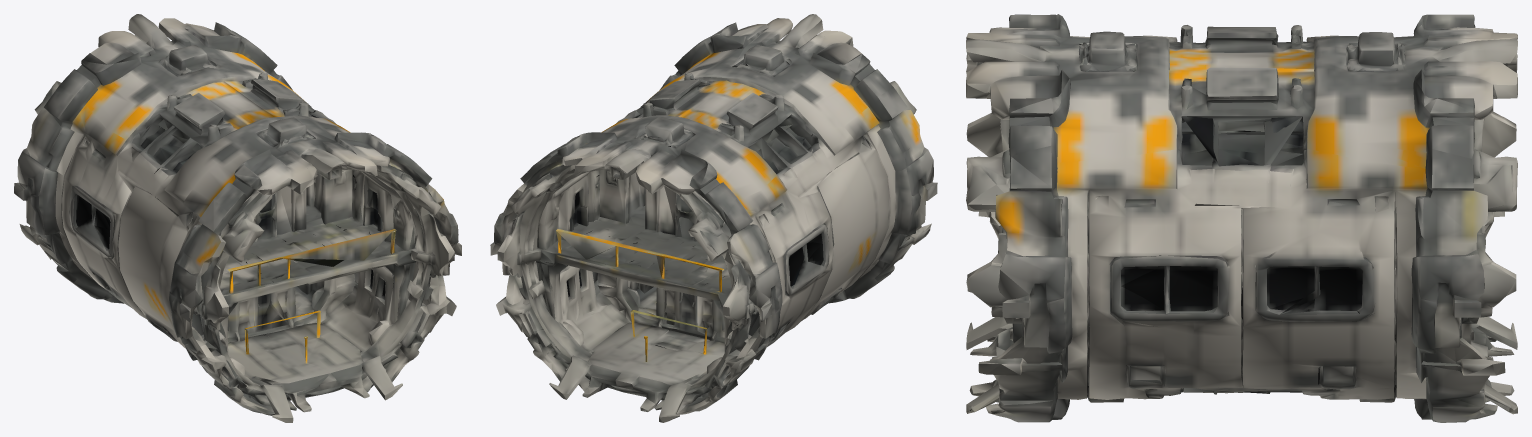
The model's file is 01_hab_module.fbx.
The picture shows the model from 3 angles, left to right: view 1: azimuth 30°, elevation 25°; view 2: azimuth 150°, elevation 25°; view 3: azimuth 270°, elevation 25°; orthographic projection. The views are drawn at different scales.
Visible parts, largest first — view 1: 01_hab_module; view 2: 01_hab_module; view 3: 01_hab_module.
Boxes of the visible parts, bbox=[...] form: 01_hab_module: bbox=[14, 14, 461, 422]; 01_hab_module: bbox=[490, 14, 937, 422]; 01_hab_module: bbox=[966, 14, 1517, 422].
Bounding box in the file's own units: 9.34 × 8.5 × 12.
Materials: 1 (1 with a texture image).
